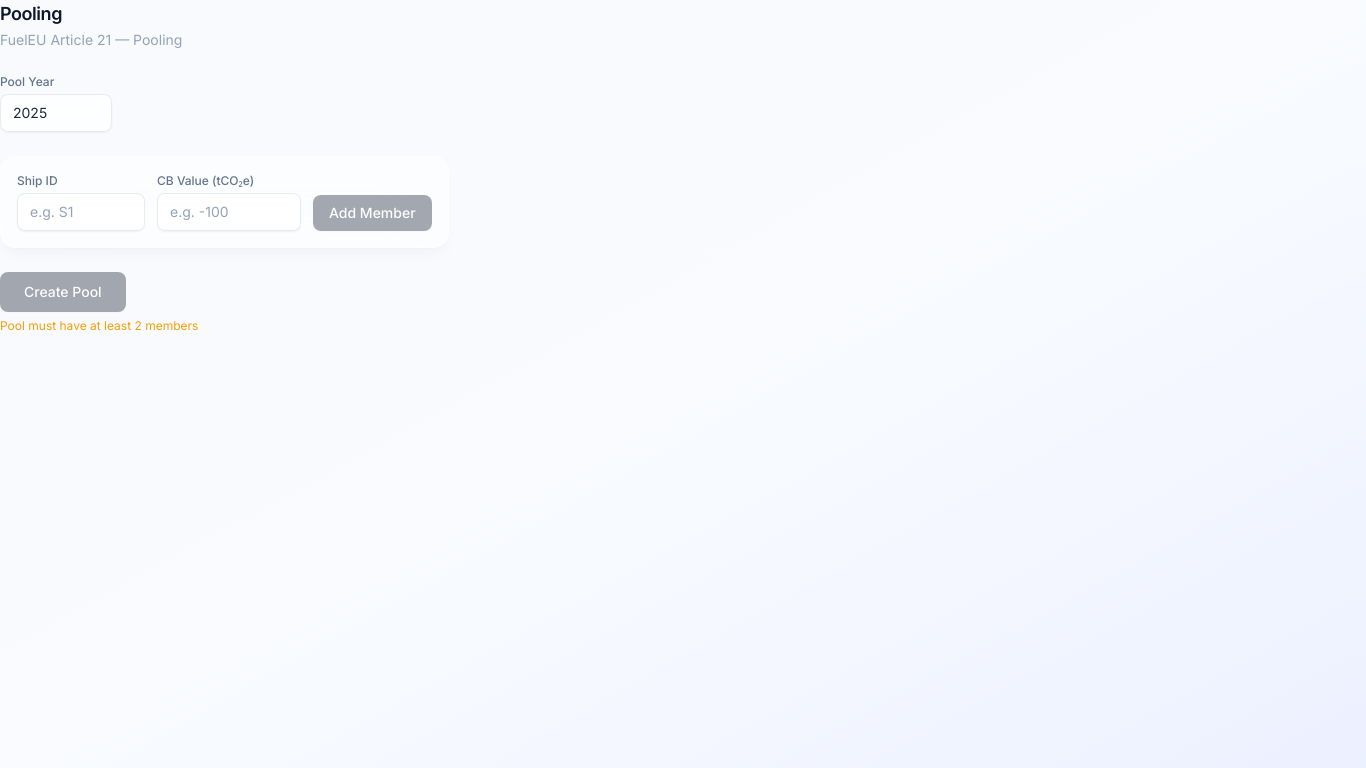
Test case: PoolingTab › positive pool sum with >= 2 members: button enabled
This screenshot has width=1366, height=768.
In the field with placeholder "e.g. S1": [81, 212] box [17,193,145,231], type "R002"
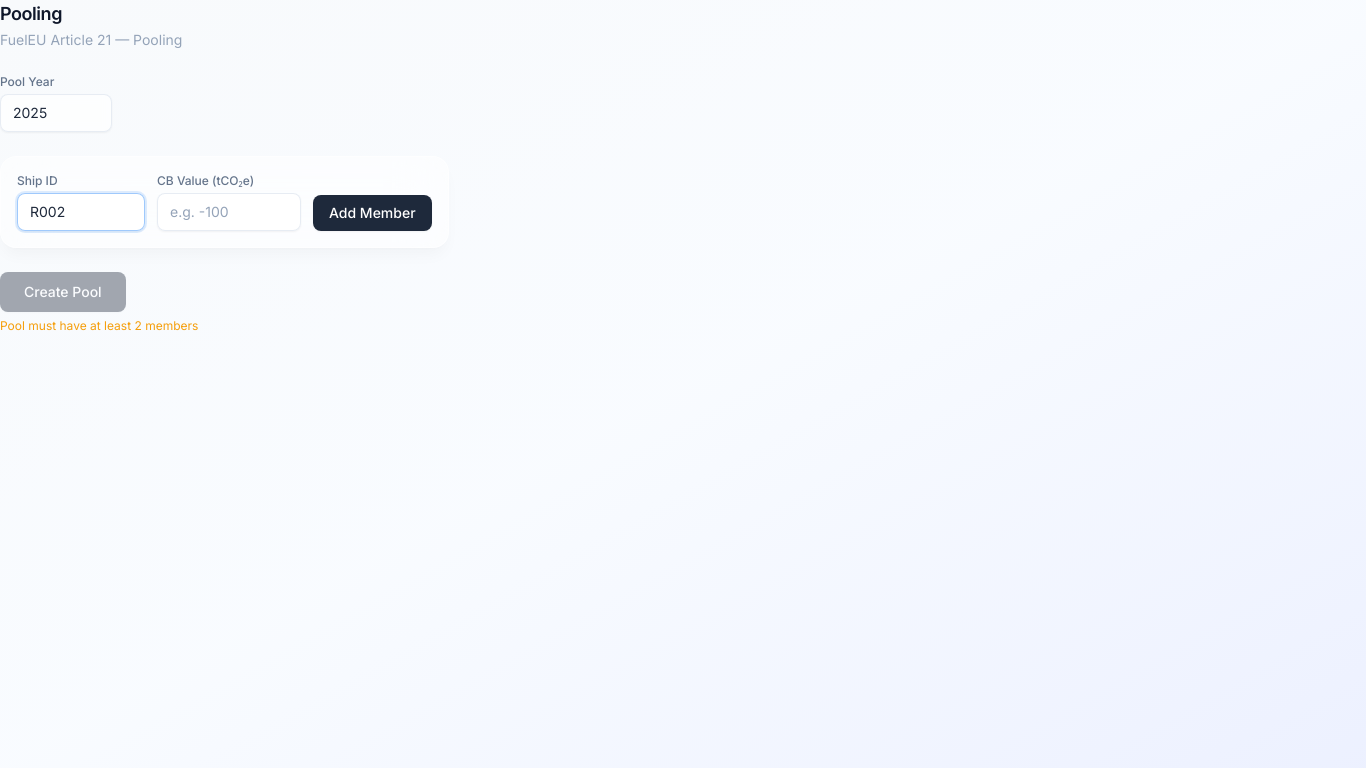
In the number field with placeholder "e.g. -100": [229, 212] box [157,193,301,231], type "200"
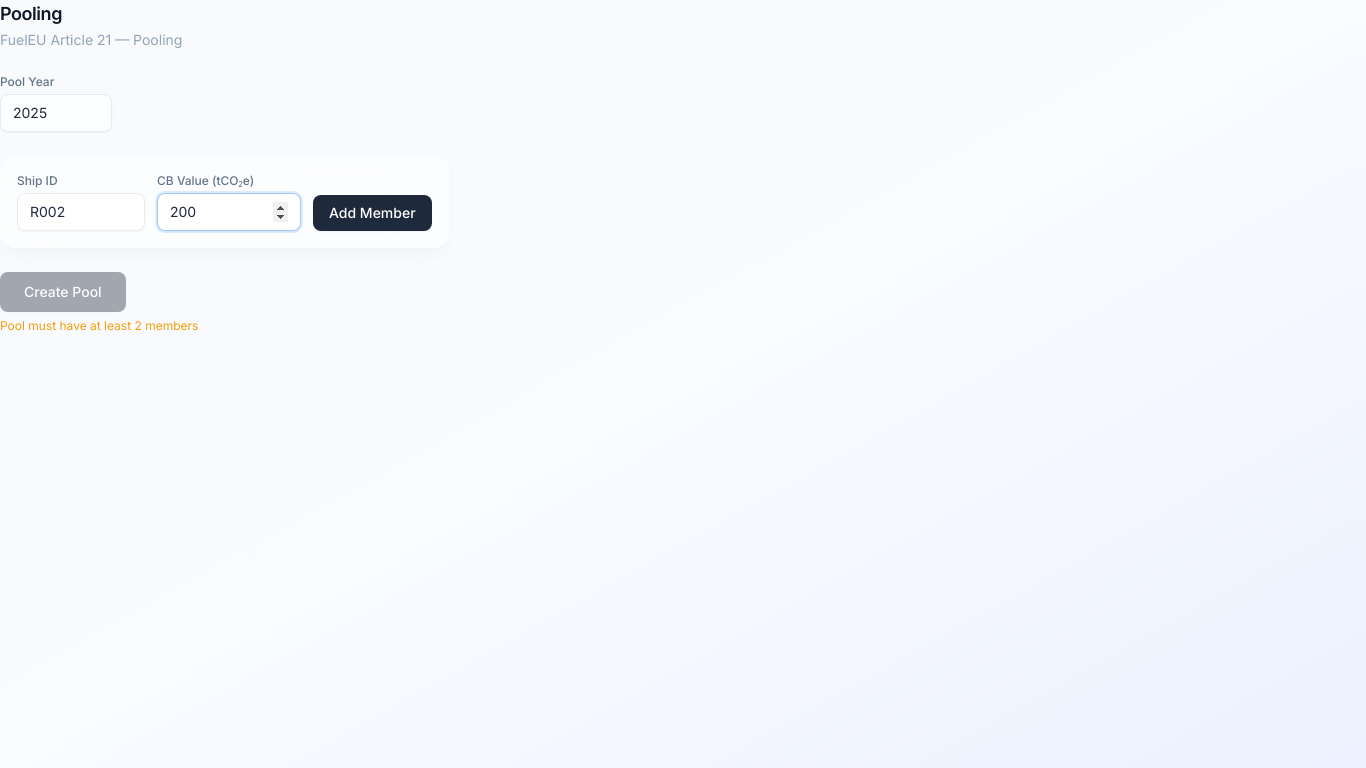
Click the button "Add Member": [372, 213] box [313,195,432,231]
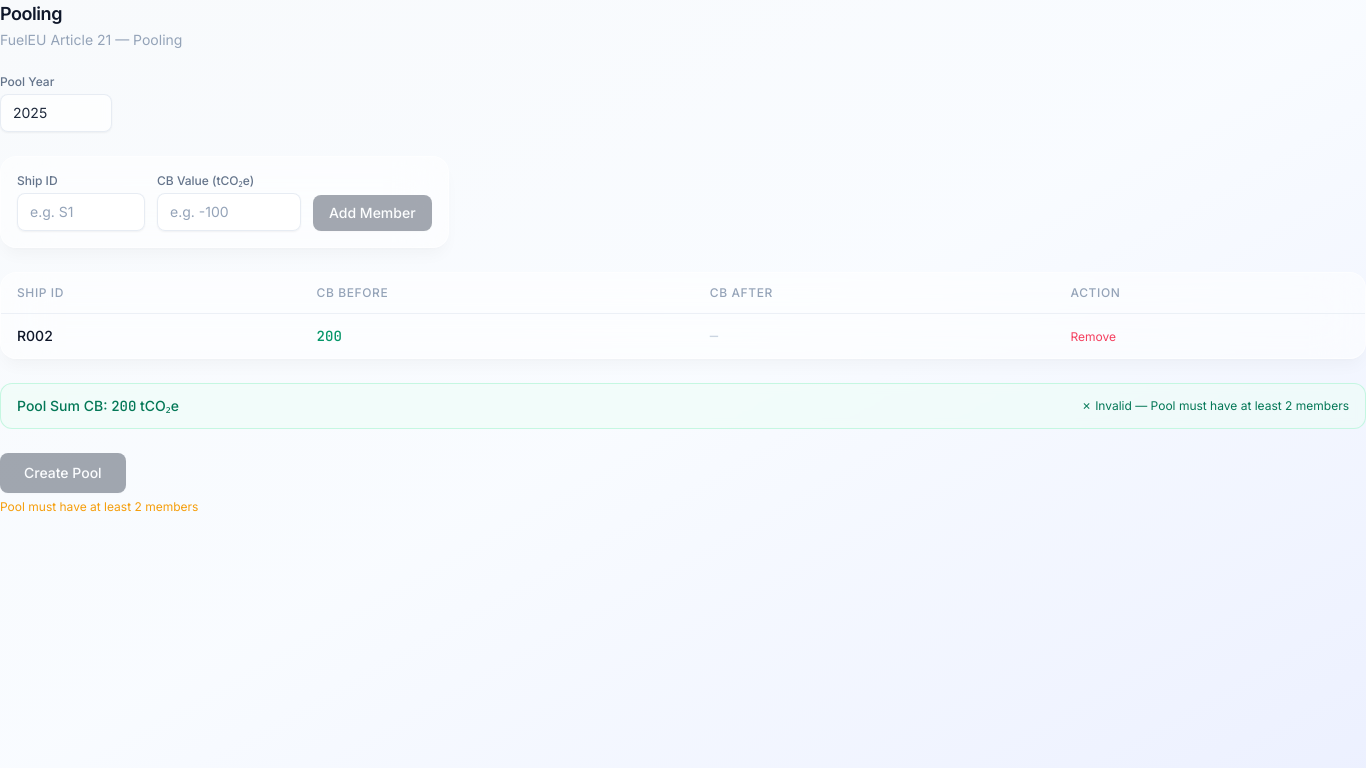
In the field with placeholder "e.g. S1": [81, 212] box [17,193,145,231], type "R004"
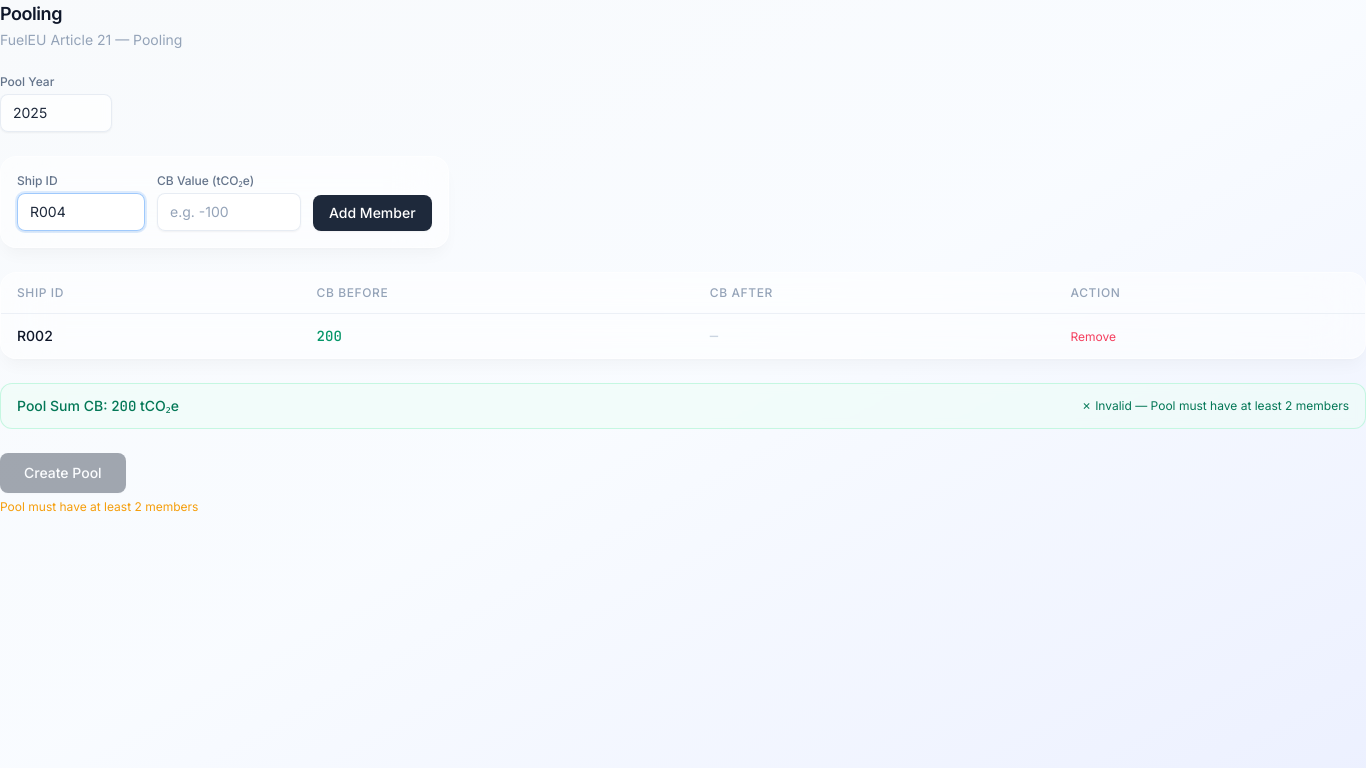
In the number field with placeholder "e.g. -100": [229, 212] box [157,193,301,231], type "-50"
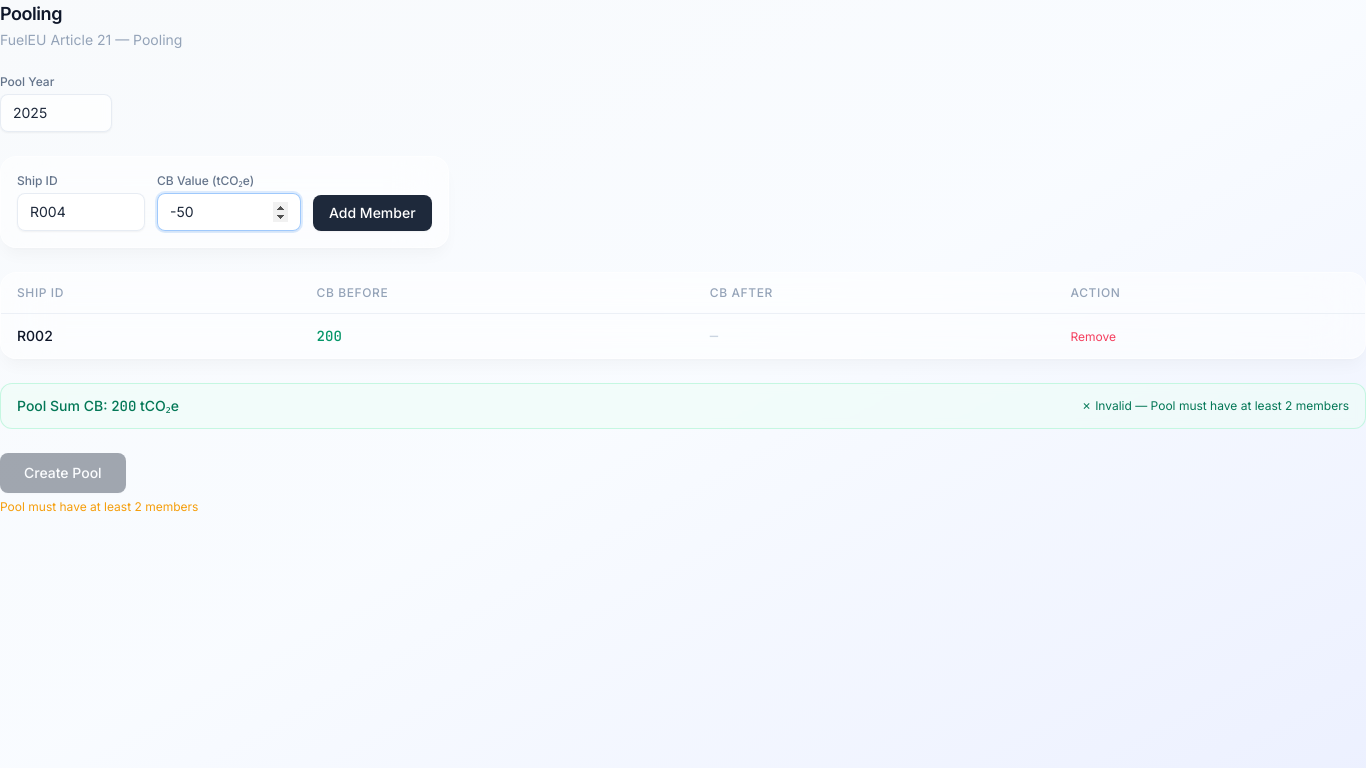
Click the button "Add Member": [372, 213] box [313,195,432,231]
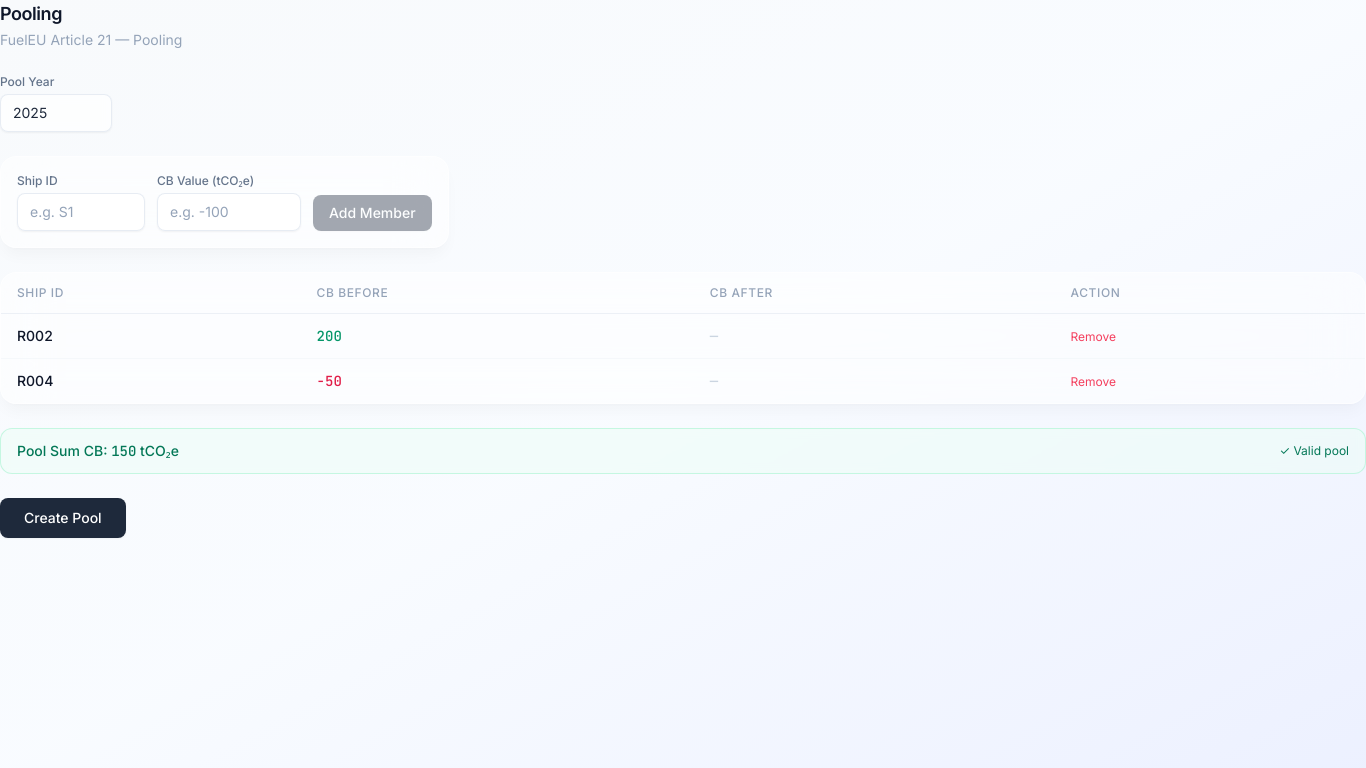
Result: the text "✓ Valid pool" is shown at [1279,443,1349,459]
Result: the button "Create Pool" is enabled at [0,498,126,538]
